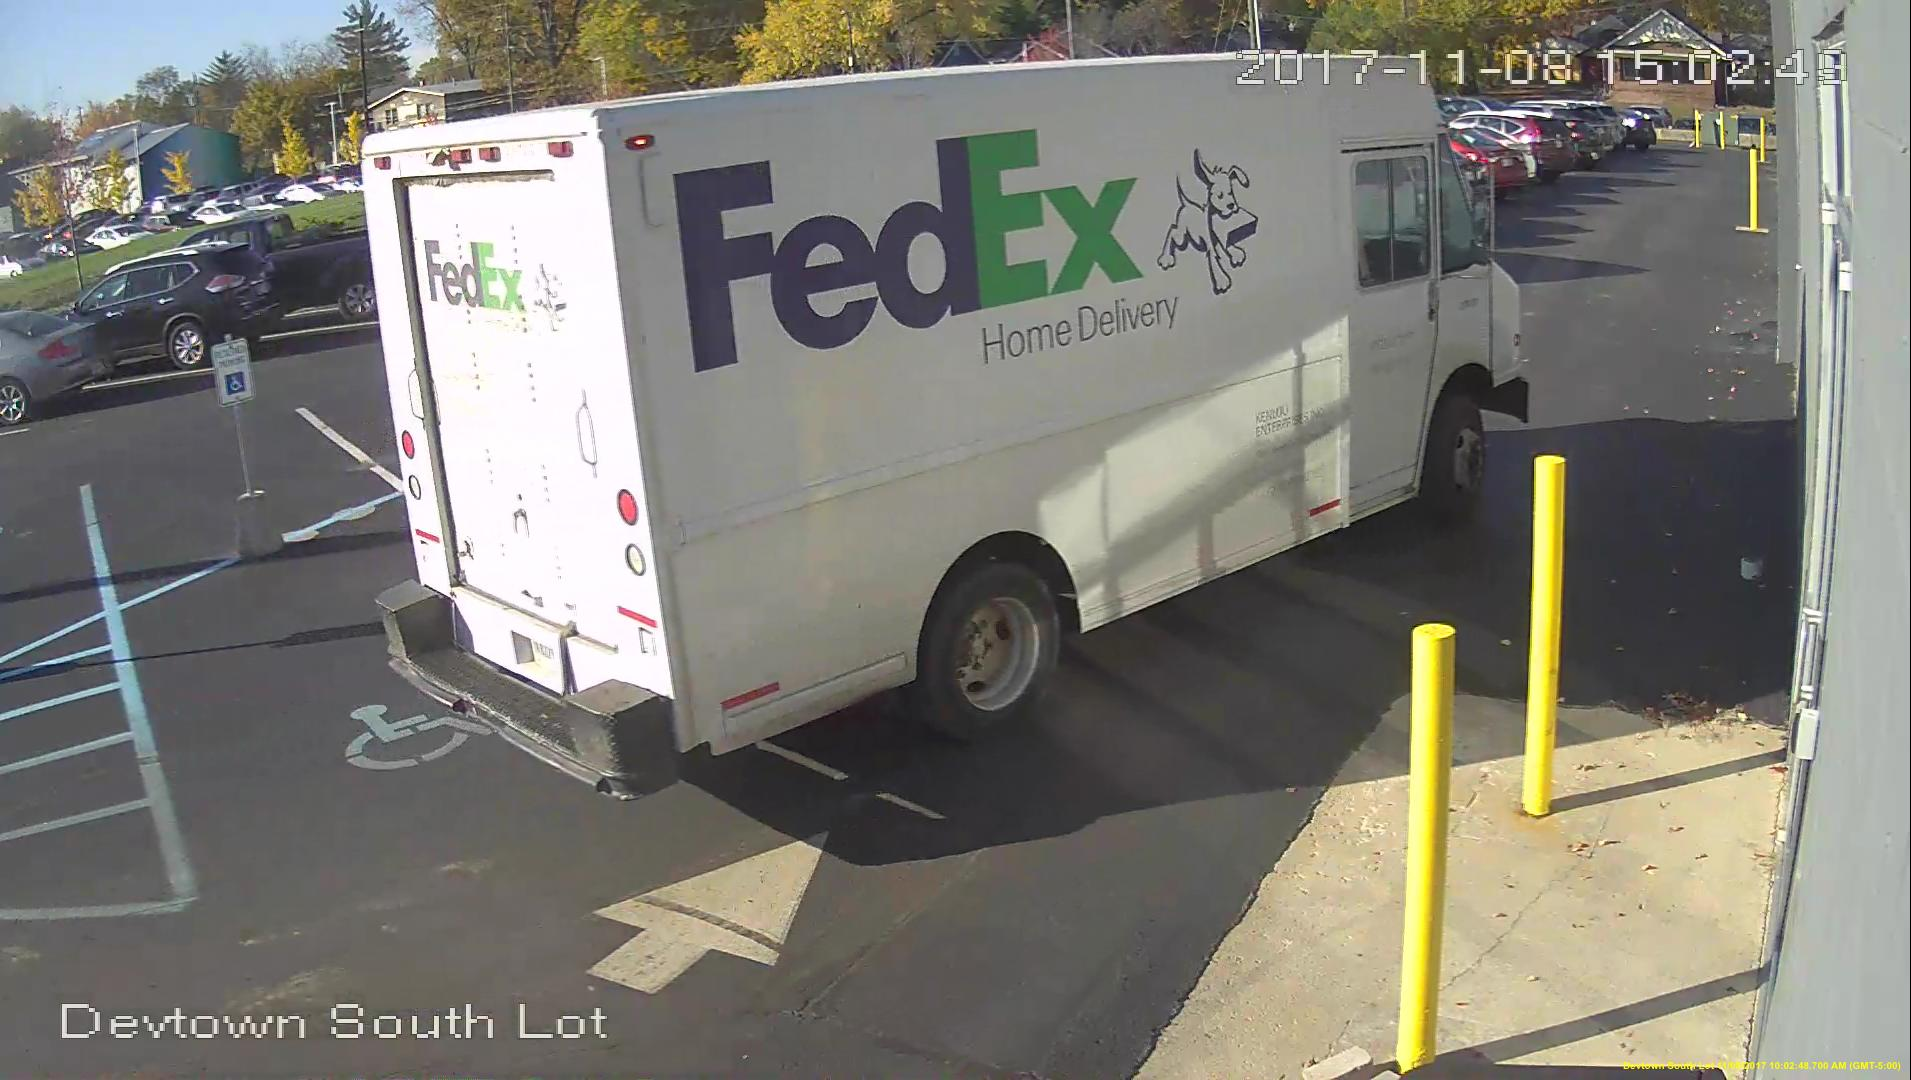fedex_truck: (353, 45, 1540, 804)
